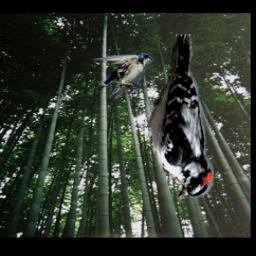Swallow: (94, 52, 154, 103)
Woodpecker: (148, 35, 215, 203)
